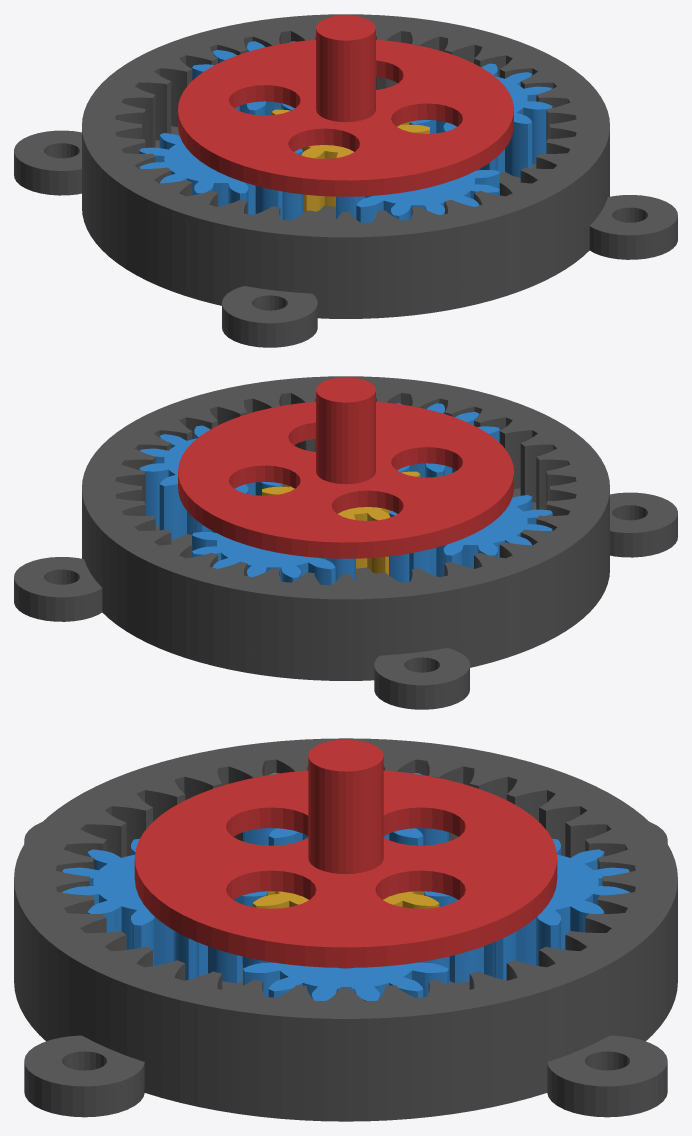
File: jscad.planetary-gear-system.glb
3 views of the same model, one above another, from view 1: azimuth 30°, elevation 25°; view 2: azimuth 150°, elevation 25°; view 3: azimuth 270°, elevation 25° (orthographic). The views are drawn at different scales.
Parts seen in each view (by area): view 1: Housing Ring, Planet Carrier Plate, Housing Floor, Carrier Output Shaft, Planet Gear 3, Planet Gear 1, Planet Gear 4, Sun Gear, Planet Gear 2; view 2: Housing Ring, Planet Carrier Plate, Housing Floor, Carrier Output Shaft, Planet Gear 3, Planet Gear 1, Planet Gear 2, Sun Gear, Planet Gear 4; view 3: Housing Ring, Planet Carrier Plate, Housing Floor, Carrier Output Shaft, Planet Gear 2, Planet Gear 4, Planet Gear 1, Planet Gear 3, Sun Gear.
Part boxes in pixels (x1,y1,x2,y2): Housing Ring: (82, 14, 609, 294); Planet Carrier Plate: (178, 39, 513, 196); Housing Floor: (14, 126, 677, 347); Carrier Output Shaft: (316, 15, 375, 122); Planet Gear 3: (139, 133, 302, 220); Planet Gear 1: (409, 63, 552, 177); Planet Gear 4: (336, 169, 499, 223); Sun Gear: (271, 109, 429, 213); Planet Gear 2: (192, 41, 295, 115); Housing Ring: (82, 376, 609, 656); Planet Carrier Plate: (178, 401, 513, 558); Housing Floor: (14, 488, 677, 709); Carrier Output Shaft: (316, 377, 375, 484); Planet Gear 3: (389, 495, 552, 582); Planet Gear 1: (139, 425, 282, 539); Planet Gear 2: (192, 531, 355, 585); Sun Gear: (262, 471, 420, 575); Planet Gear 4: (396, 403, 499, 477); Housing Ring: (14, 738, 677, 1090); Planet Carrier Plate: (134, 770, 557, 967); Housing Floor: (14, 822, 677, 1121); Carrier Output Shaft: (308, 739, 383, 873); Planet Gear 2: (424, 838, 629, 983); Planet Gear 4: (62, 838, 267, 983); Planet Gear 1: (243, 956, 448, 1001); Planet Gear 3: (243, 773, 448, 845); Sun Gear: (252, 891, 439, 908).
Bounding box in the file's own units: 0.088 × 0.043 × 0.088.
